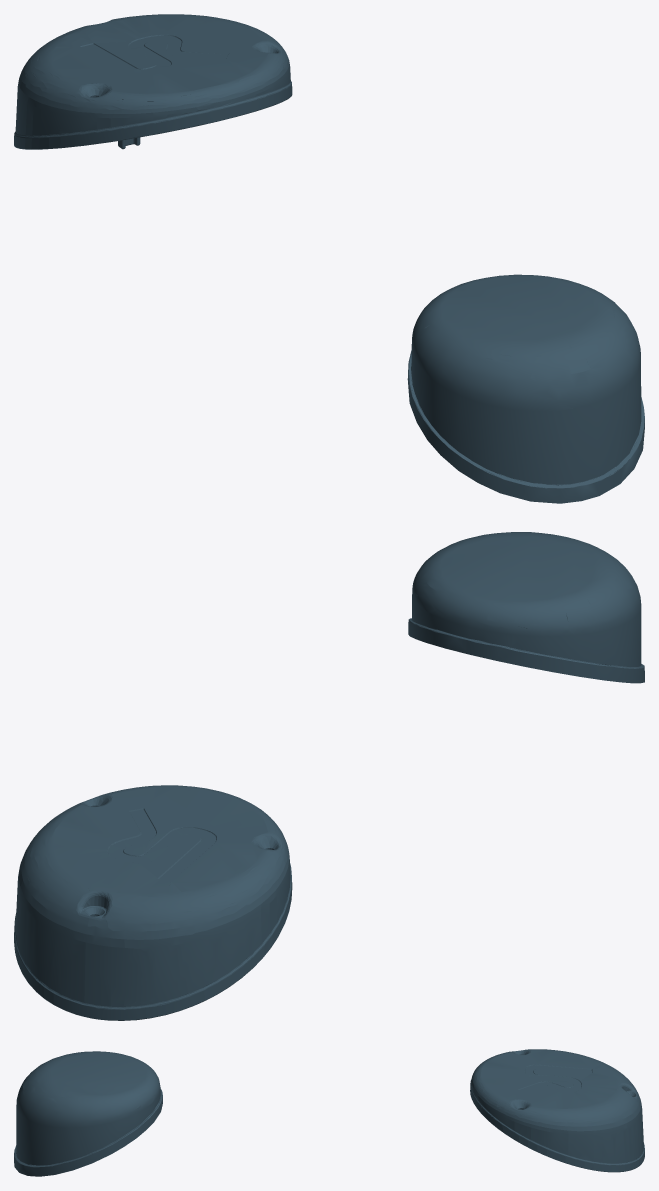
File: upperarm_2.obj
3 views of the same model, one above another, from view 1: azimuth 30°, elevation 25°; view 2: azimuth 150°, elevation 25°; view 3: azimuth 270°, elevation 25° (orthographic). The views are drawn at different scales.
Bounding box in the file's own units: 0.091 × 0.0513 × 0.3283.
